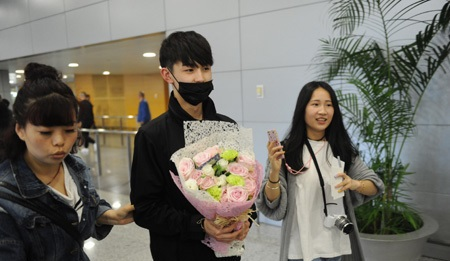face: (23, 115, 78, 165), (306, 91, 336, 129)
face_mask: (176, 55, 214, 102)
